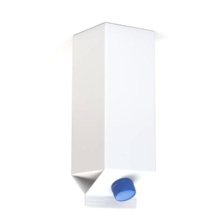carton: (62, 19, 169, 216)
